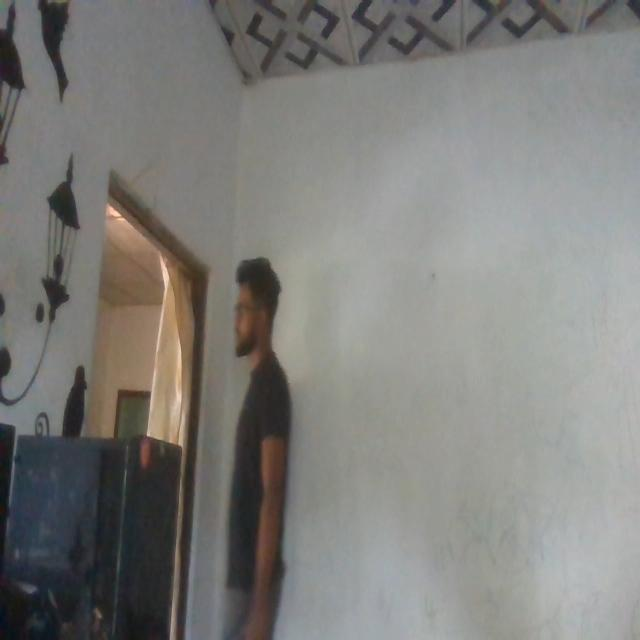Person: (217, 246, 323, 640)
